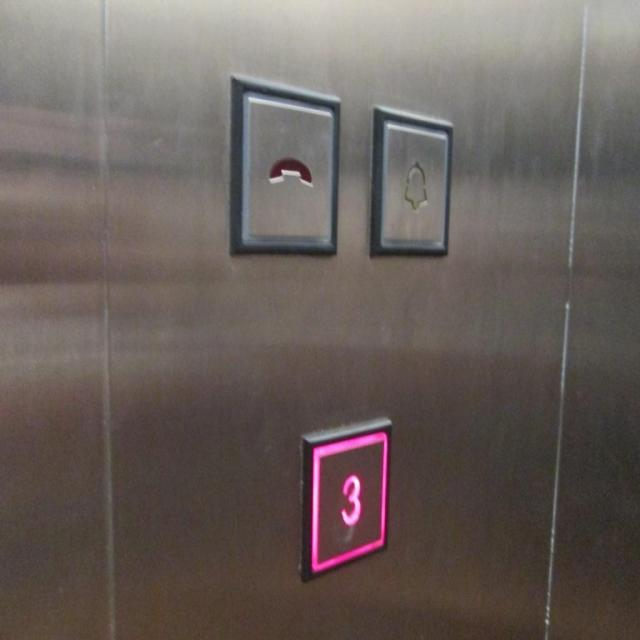3: (291, 414, 399, 583)
alarm: (364, 93, 457, 265)
call: (225, 63, 344, 264)
